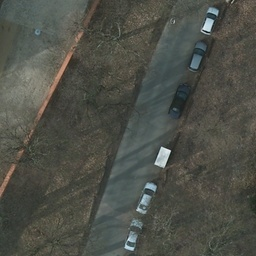car: (135, 179, 156, 215), (123, 218, 144, 254), (170, 82, 186, 118), (187, 42, 207, 70), (202, 9, 218, 38)
